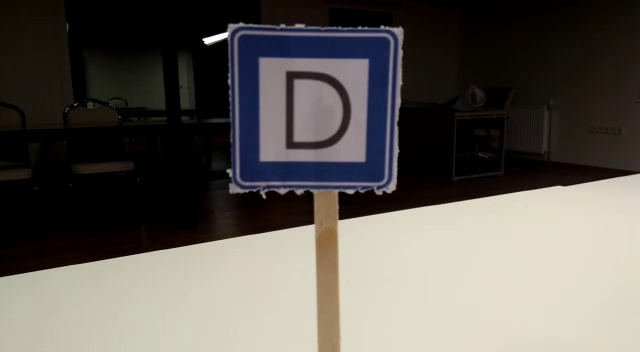durak: (230, 28, 399, 192)
